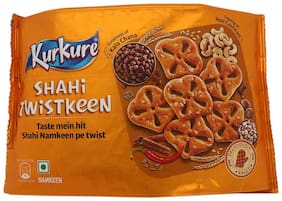kurkure: (27, 34, 101, 69)
plastic: (4, 6, 279, 200)
wrapper: (16, 21, 270, 188)
